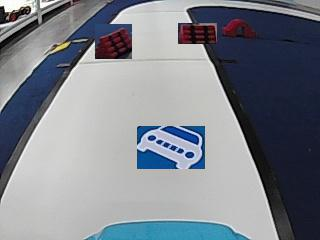bridge: (222, 17, 255, 37)
